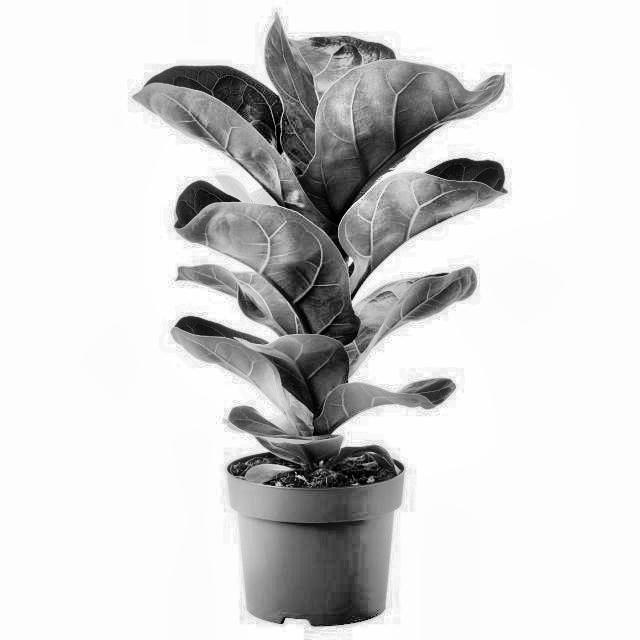plants: (114, 44, 486, 599)
